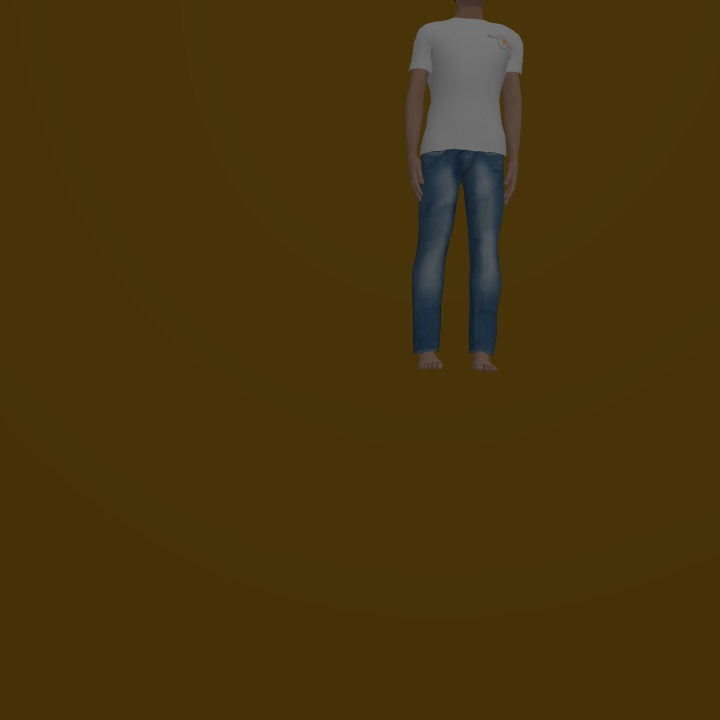victim: (404, 1, 525, 377)
